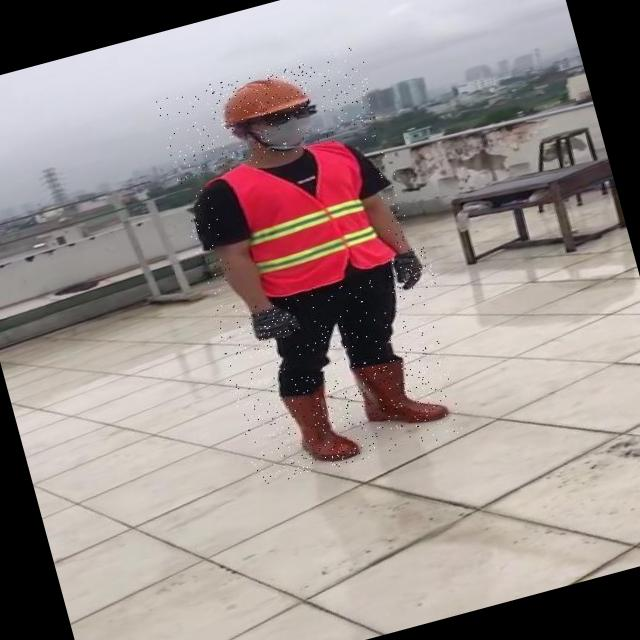hard_hat: (208, 62, 314, 130)
safety_vest: (205, 134, 398, 307)
vehicle: (154, 44, 464, 488)
work_boots: (267, 376, 364, 477), (356, 344, 448, 434)
